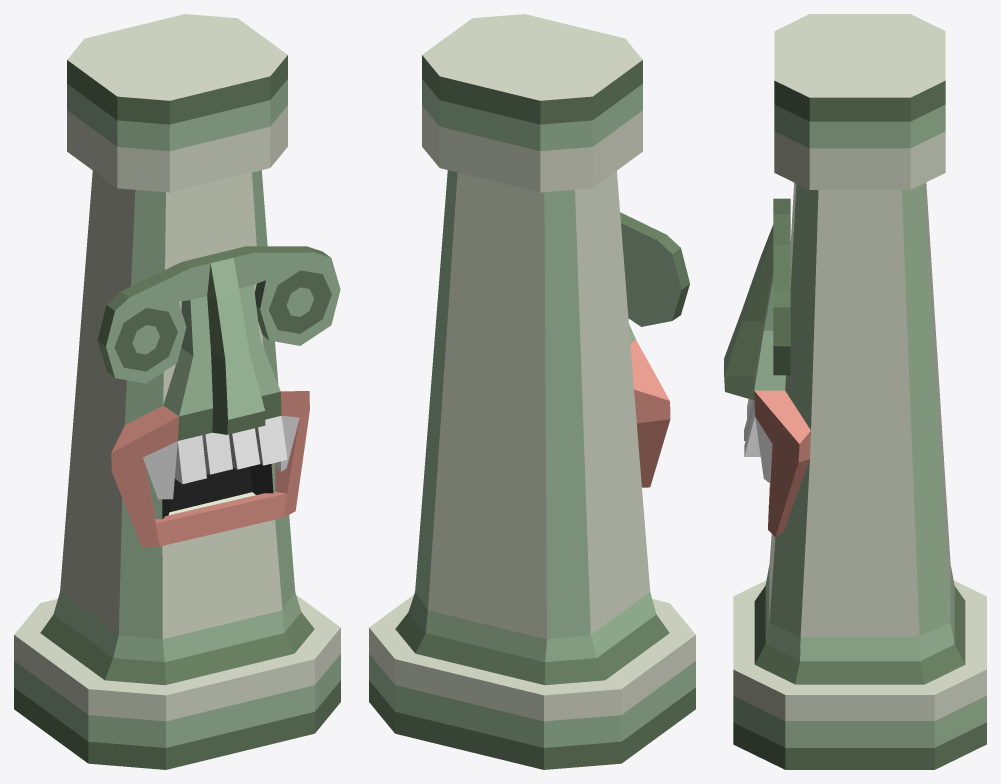
File: Totem_3.fbx
3 renders of one model, left to right at view 1: azimuth 30°, elevation 25°; view 2: azimuth 150°, elevation 25°; view 3: azimuth 270°, elevation 25°, orthographic.
Parts seen in each view (by area): view 1: Cylinder.003; view 2: Cylinder.003; view 3: Cylinder.003.
Part boxes in pixels (left/top/right/bottom): Cylinder.003: left=14, top=14, right=340, bottom=769; Cylinder.003: left=369, top=14, right=695, bottom=769; Cylinder.003: left=724, top=14, right=986, bottom=769.
Size of the model in its own units: 142 by 348 by 127.
